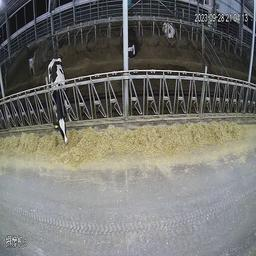cow: (45, 56, 78, 141), (128, 21, 140, 57), (161, 19, 175, 36)
